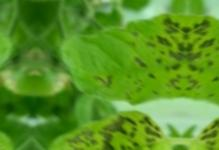Tomato leaf bacterial spot: (46, 0, 189, 113), (32, 101, 178, 150)
